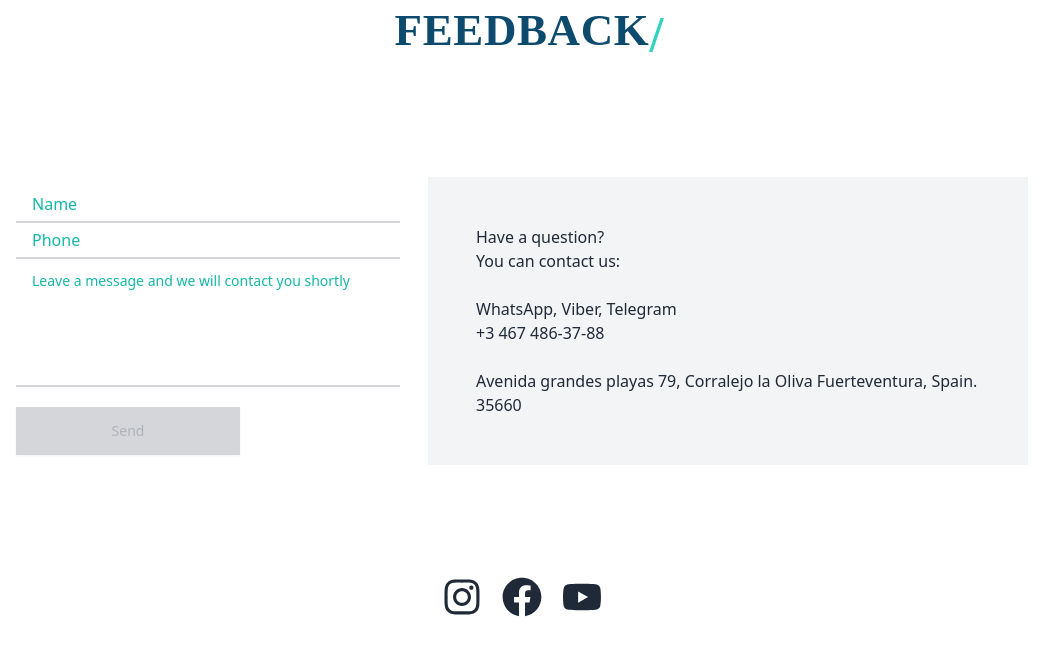
Test case: Feedback component › should get error messages from field Phone
Type "123-123-1234" into the field with placeholder "Phone" at (208, 240), box [16, 222, 400, 258]
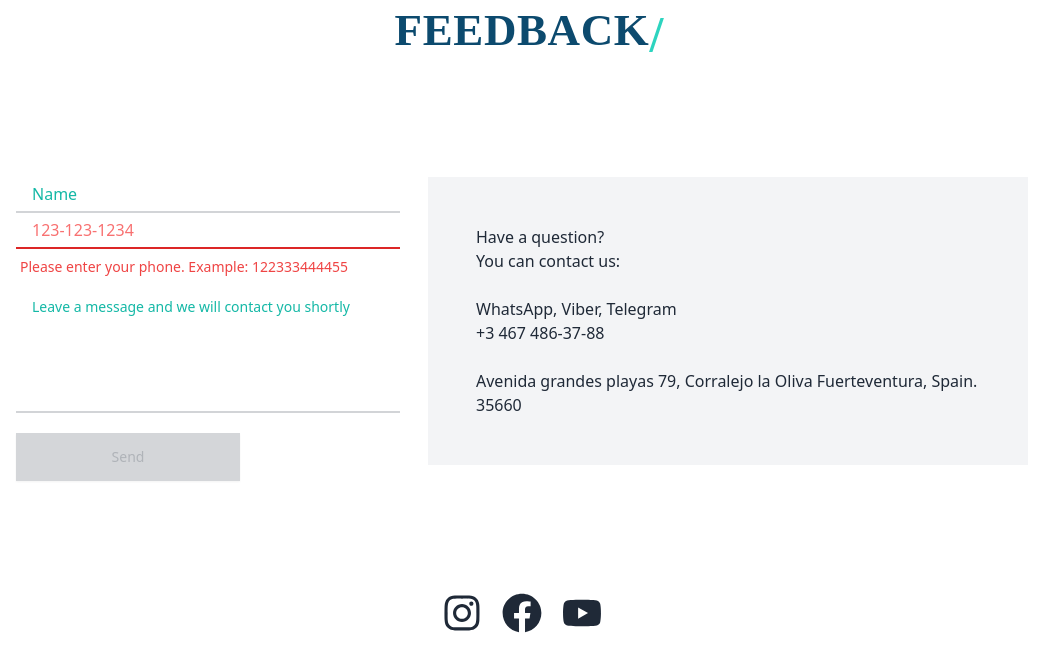
Clear the field with placeholder "Phone" at (208, 230), box [16, 212, 400, 248]
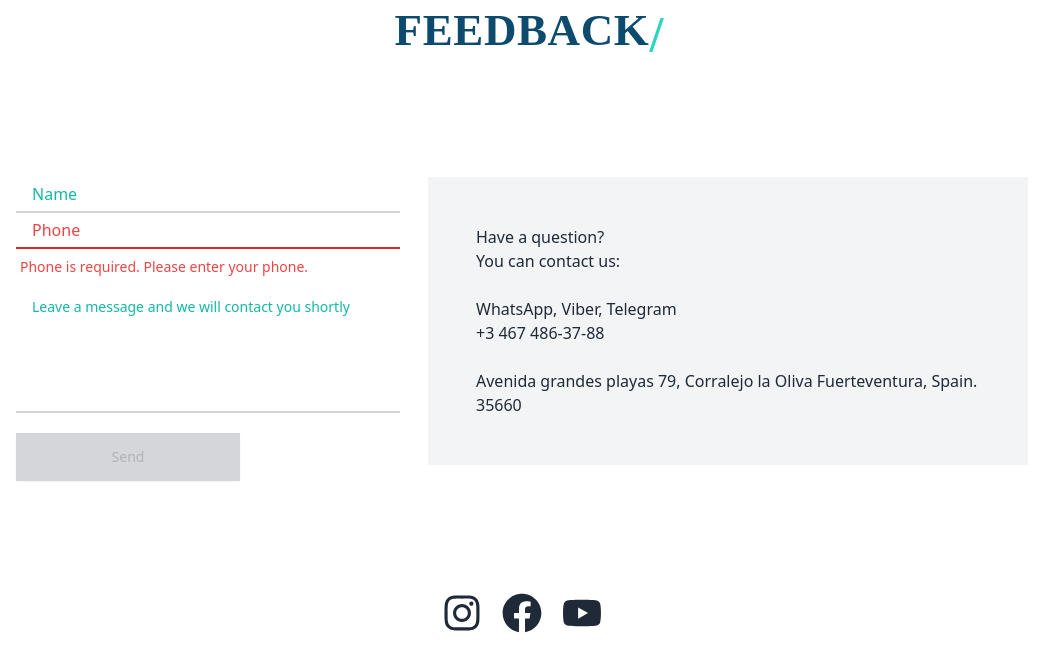
Expected: the text "Phone is required. Please enter your phone." is shown, [20, 256, 308, 276]
Type "testsssssssssssssssssssss" into the field with placeholder "Phone" at (208, 230), box [16, 212, 400, 248]
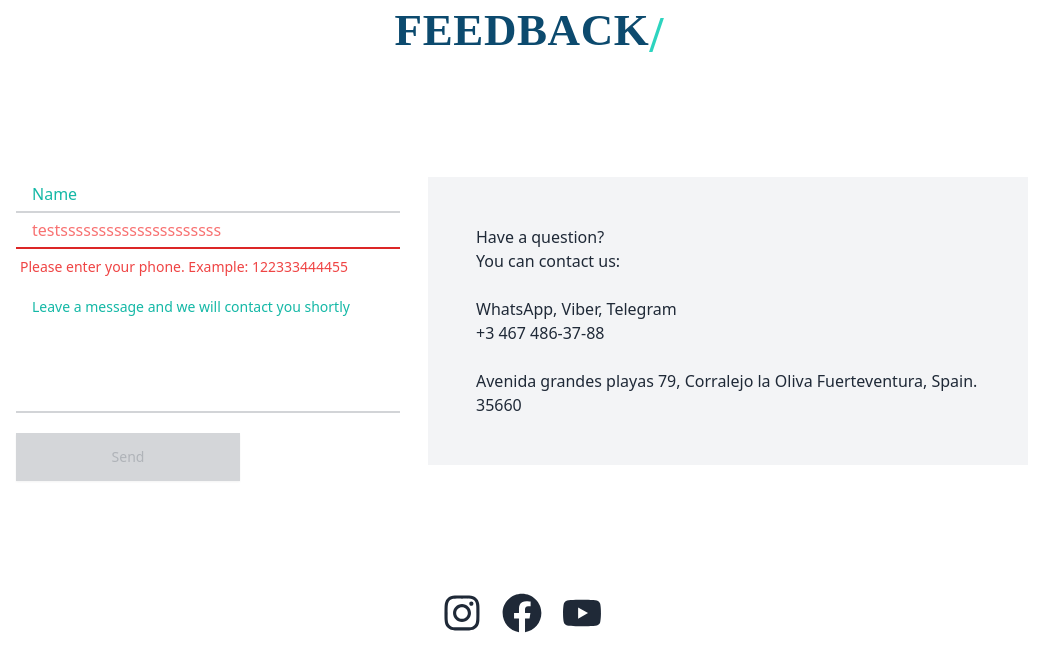
Expected: the text "Please enter your phone. Example: 122333444455" is shown, [20, 256, 348, 276]
